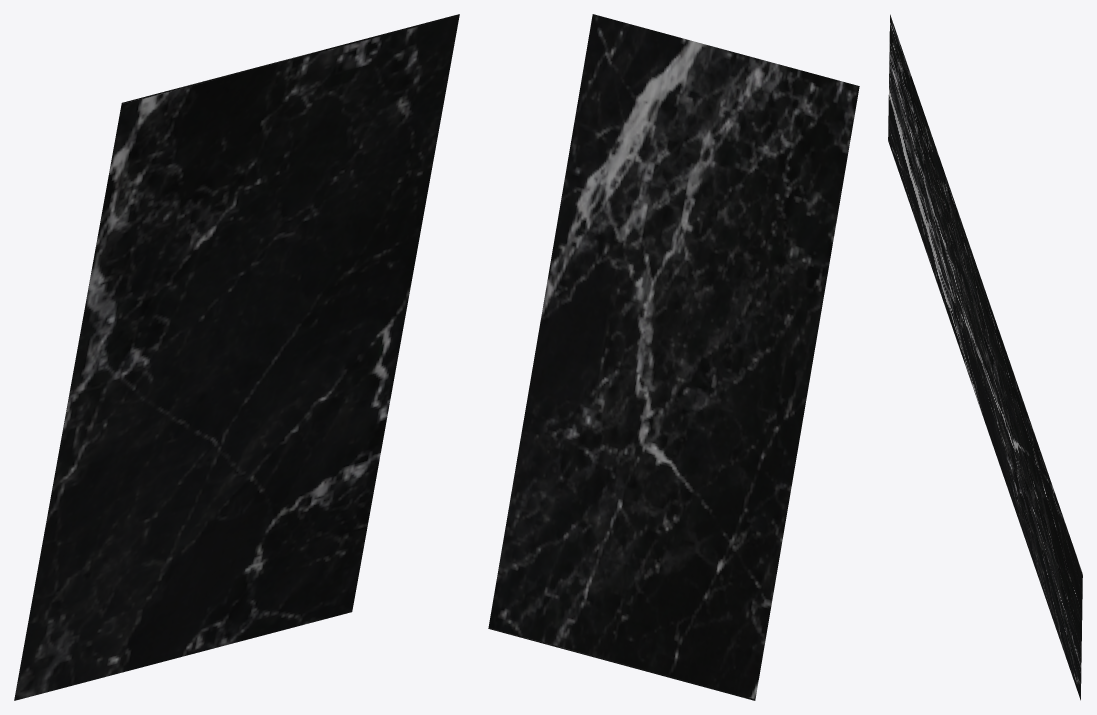
File: black-and-white.glb
3 renders of one model, left to right at view 1: azimuth 30°, elevation 25°; view 2: azimuth 150°, elevation 25°; view 3: azimuth 270°, elevation 25°, orthographic. The views are drawn at different scales.
Visible parts, largest first — view 1: Cube.002; view 2: Cube.002; view 3: Cube.002.
Part boxes in pixels (x1=…): Cube.002: x1=14, y1=14, x2=459, y2=700; Cube.002: x1=488, y1=14, x2=859, y2=700; Cube.002: x1=888, y1=14, x2=1082, y2=700.
Bounding box in the file's own units: 1.2 × 2.29 × 0.7192.
1 material, 1 textured.
